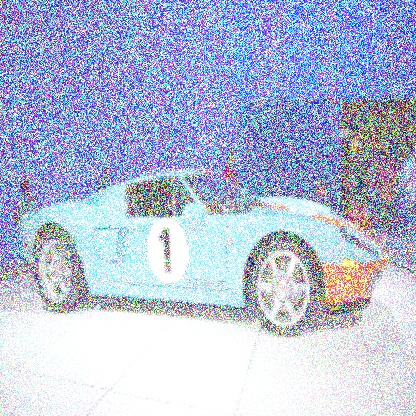Vehicle: (18, 168, 388, 337)
